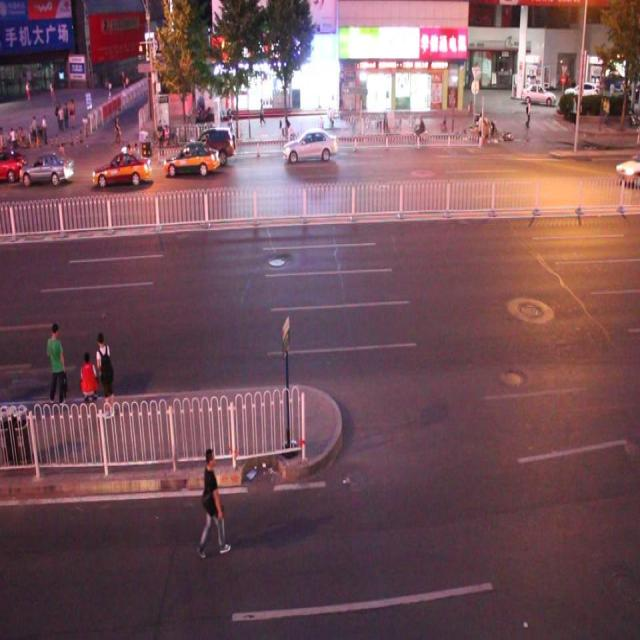car: (93, 151, 151, 186), (164, 141, 220, 177), (282, 129, 336, 163), (189, 125, 235, 163), (22, 153, 74, 184), (1, 146, 27, 182)
